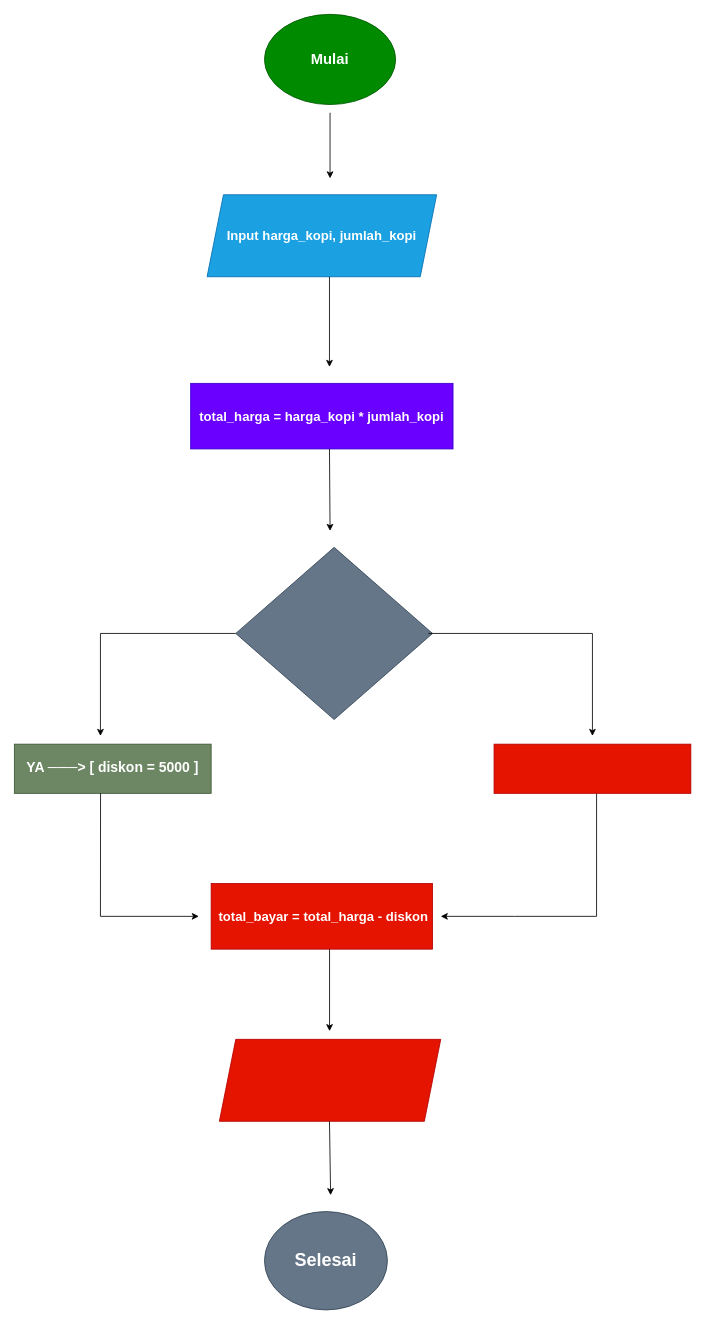
Some shapes in this 705 by 1324 pixel diagram are drawn without their labels. The shapes that lost their labels are listed below. From the top down, each one's centre as x and y in pixels, then its label:
the point at 334,633: total_harga > 50000?
the point at 592,768: TIDAK ──> [ diskon = 0 ]
the point at 330,1080: Output total_bayar
